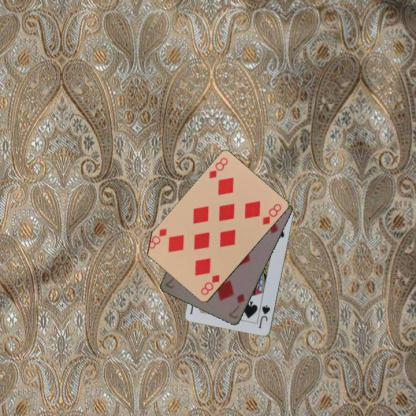7d: (226, 292, 246, 321)
8d: (198, 272, 221, 297), (206, 156, 229, 180)
Js: (256, 303, 272, 330)
